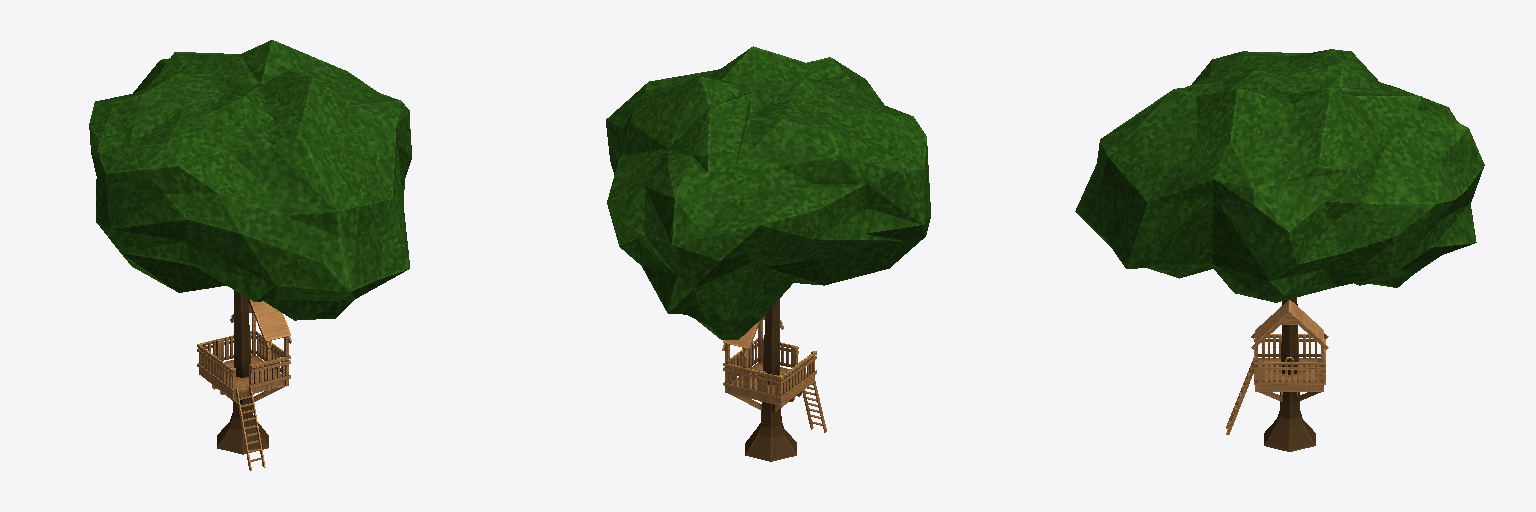
The picture shows the model from 3 angles: view 1: azimuth 30°, elevation 25°; view 2: azimuth 150°, elevation 25°; view 3: azimuth 270°, elevation 25°; orthographic projection.
Parts seen in each view (by area): view 1: Treehouse_mesh; view 2: Treehouse_mesh; view 3: Treehouse_mesh.
Part boxes in pixels (x1,y1,x2,y2): Treehouse_mesh: (89, 40, 411, 470); Treehouse_mesh: (606, 46, 930, 461); Treehouse_mesh: (1075, 49, 1484, 451).
Size of the model in its own units: 30.33 by 34.42 by 34.05.
Materials: 1 (1 with a texture image).